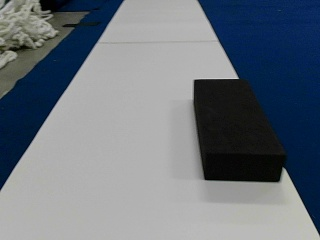block: (194, 80, 284, 183)
